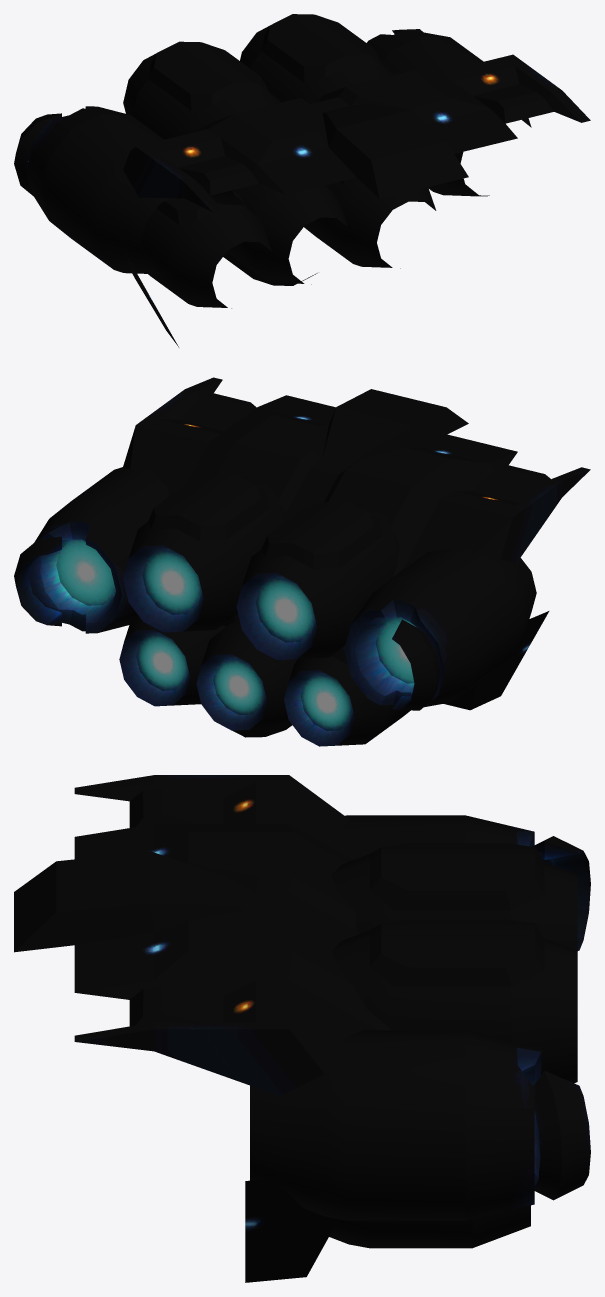
The model's file is engine_hgn_carrier_01_ion_03_t1.glb.
3 renders of one model, top to bottom at view 1: azimuth 30°, elevation 25°; view 2: azimuth 150°, elevation 25°; view 3: azimuth 270°, elevation 25°, orthographic. The views are drawn at different scales.
Visible parts, largest first — view 1: carrier_01_engine_l; view 2: carrier_01_engine_l; view 3: carrier_01_engine_l.
Part boxes in pixels (x1=…): carrier_01_engine_l: x1=14, y1=14, x2=590, y2=347; carrier_01_engine_l: x1=14, y1=377, x2=590, y2=746; carrier_01_engine_l: x1=14, y1=775, x2=590, y2=1282.
Bounding box in the file's own units: 2.09 × 1.03 × 1.72.
1 material, 1 textured.
